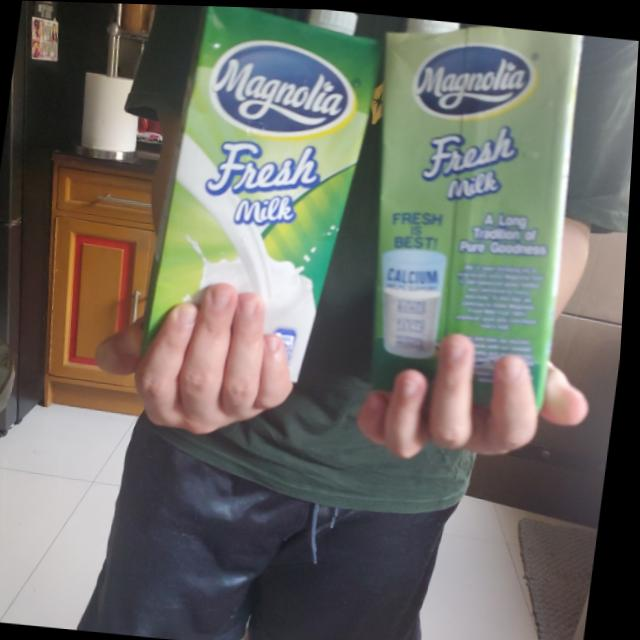milk: (342, 12, 601, 414), (140, 4, 384, 400)
